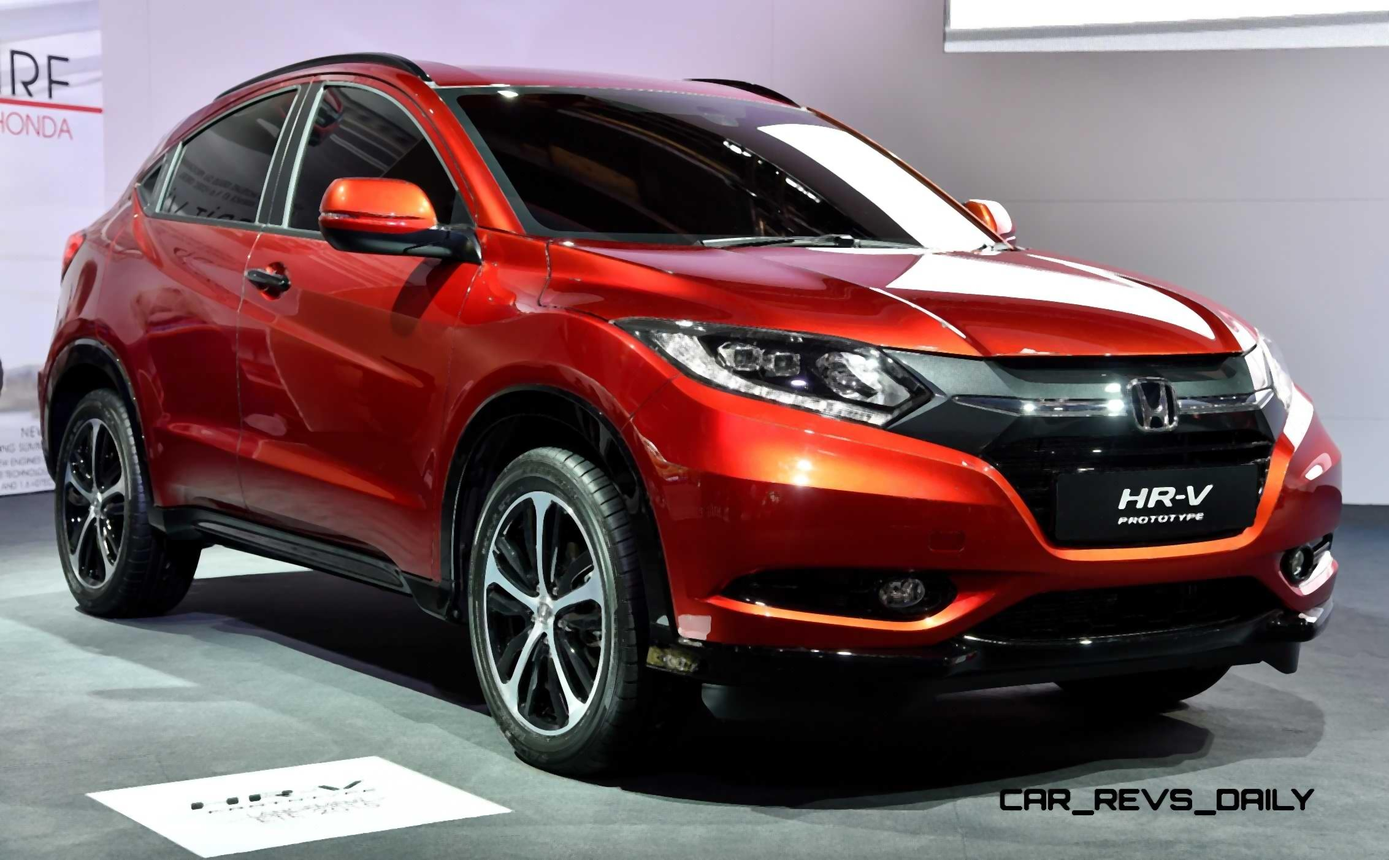Car hood: (536, 229, 1270, 368)
Driver-s door - -F-R-: (239, 62, 465, 591)
Fender - -F-R-: (440, 205, 685, 577)
Fender - -R-R-: (64, 229, 140, 404)
Front bumper: (616, 374, 1361, 707)
Headlight - -L-: (1233, 311, 1320, 413)
Headlight - -R-: (599, 307, 939, 432)
Passenger-s door - -R-R-: (115, 72, 281, 547)
Rear bumper: (31, 338, 83, 499)
Rear light - -R-: (27, 207, 96, 285)
Side bumper - -R-: (141, 487, 478, 632)
Side mirror - -L-: (947, 182, 1038, 264)
Side mirror - -R-: (313, 170, 482, 276)
